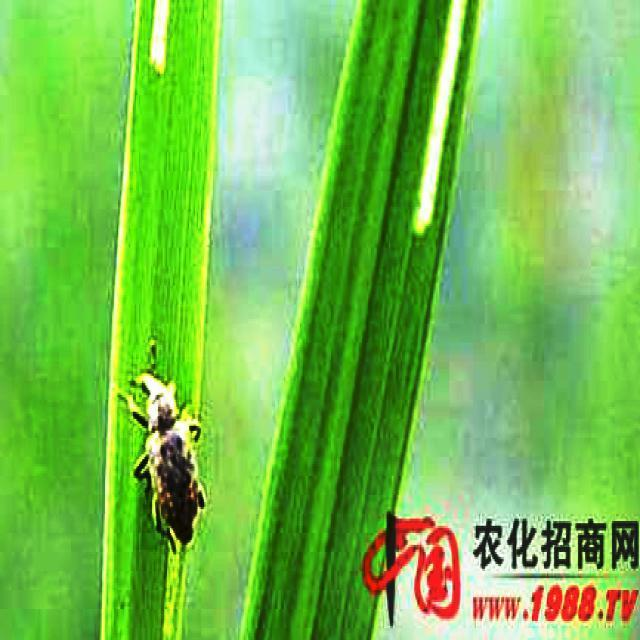rice-bug: (133, 357, 207, 550)
